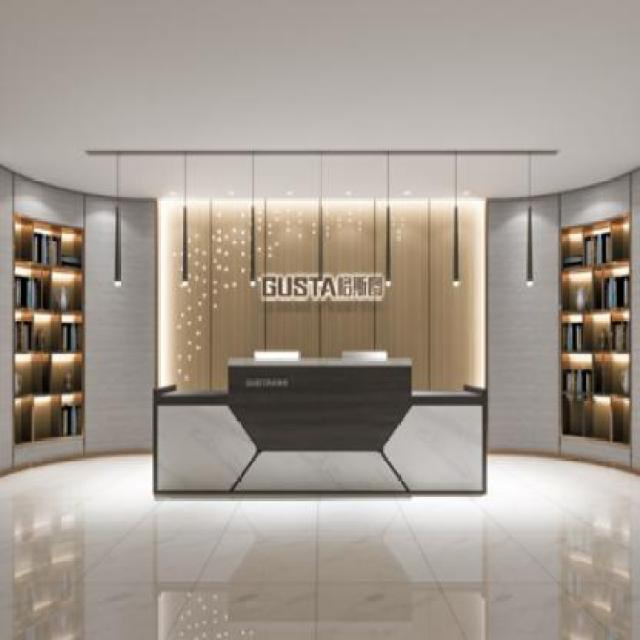frontdesk: (146, 345, 492, 507)
